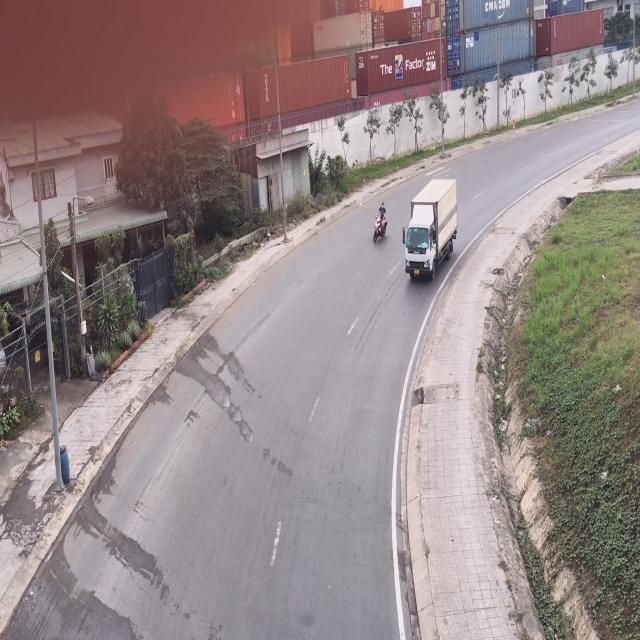motorbike: (374, 200, 390, 245)
truck: (403, 176, 457, 280)
